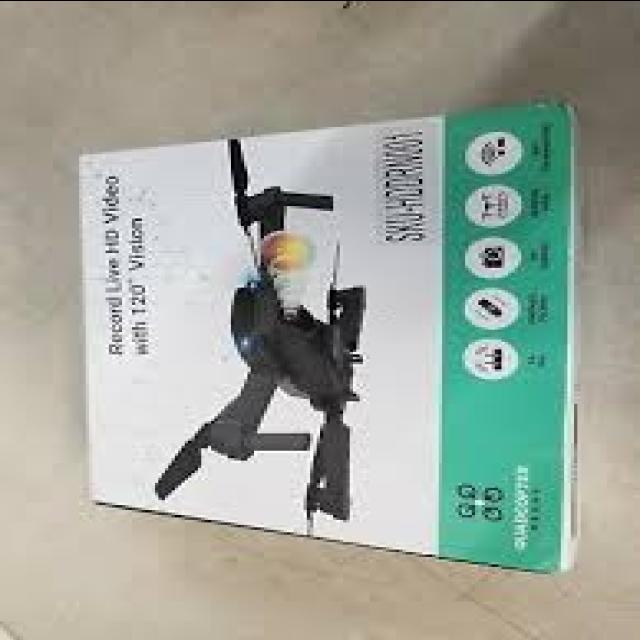drone: (150, 134, 410, 532)
